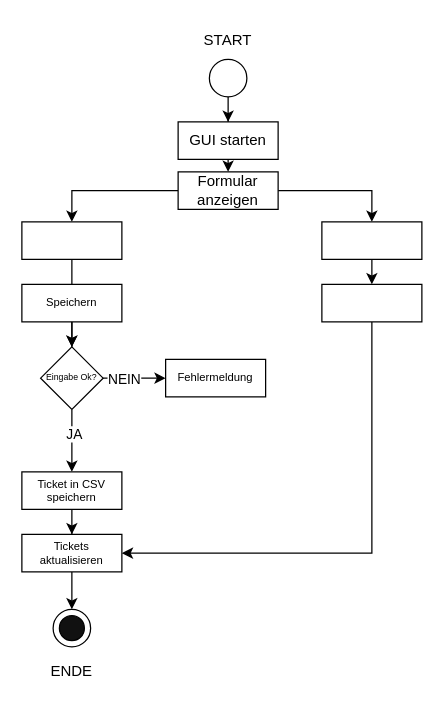
This 444x711 diagram has some shape labels left out. The centre of each missing label's shape, as x and y in pixels:
"Bearbeiten, Löschen oder Exportieren" goes at [371,302].
"Existierendes Ticket auswählen" goes at [371,240].
"Neues Ticket anlegen" goes at [71,240].
